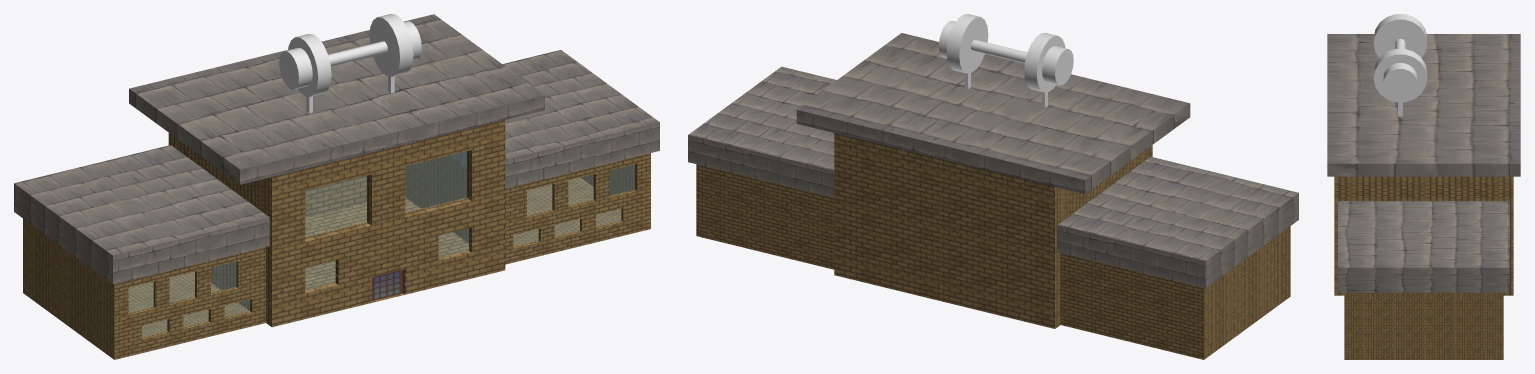
The model's file is Gym Building TEXTURED.FBX.
3 views of the same model, side by side, from view 1: azimuth 30°, elevation 25°; view 2: azimuth 150°, elevation 25°; view 3: azimuth 270°, elevation 25° (orthographic). The views are drawn at different scales.
Parts seen in each view (by area): view 1: Box001, Box004, Box008, Box003, Box007, Box009, GymMain, GymMainLeft, GymMainRight, Cylinder003, Cylinder004, Cylinder005 (+1 smaller); view 2: Box001, Box004, Box008, Box003, Box009, Box007, Cylinder003, Cylinder004, Cylinder005, Cylinder001; view 3: Box004, Box009, Box007, Box001, Cylinder004, Cylinder003, Cylinder002.
Part boxes in pixels (box(x1,y1,x2,y2)): Box001: box(168, 120, 505, 327); Box004: box(129, 14, 544, 184); Box008: box(14, 145, 269, 284); Box003: box(23, 218, 265, 359); Box007: box(408, 153, 650, 264); Box009: box(450, 50, 659, 188); GymMain: box(305, 151, 468, 300); GymMainLeft: box(128, 262, 249, 336); GymMainRight: box(513, 164, 634, 246); Cylinder003: box(369, 14, 413, 76); Cylinder004: box(288, 34, 331, 96); Cylinder005: box(279, 48, 312, 89); Box001: box(834, 133, 1152, 328); Box004: box(796, 33, 1190, 193); Box008: box(1057, 156, 1298, 288); Box003: box(1060, 226, 1290, 359); Box009: box(688, 66, 836, 197); Box007: box(696, 164, 834, 269); Cylinder003: box(946, 14, 988, 73); Cylinder004: box(1024, 33, 1065, 92); Cylinder005: box(1042, 46, 1073, 85); Cylinder001: box(971, 39, 1027, 63); Box004: box(1327, 34, 1520, 176); Box009: box(1338, 201, 1509, 292); Box007: box(1344, 292, 1503, 359); Box001: box(1334, 176, 1513, 295); Cylinder004: box(1373, 14, 1427, 57); Cylinder003: box(1373, 49, 1427, 102); Cylinder002: box(1383, 63, 1417, 99).
Bounding box in the file's own units: 244 × 103 × 85.68.
Materials: 4 (3 with a texture image).
